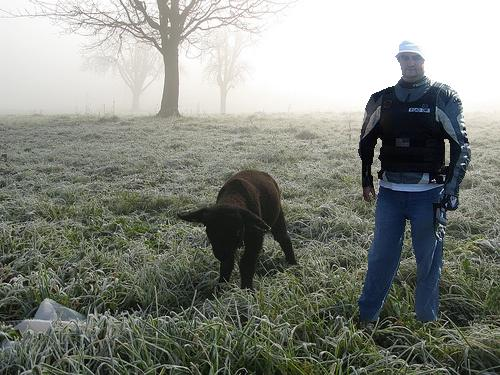tampered: (358, 40, 471, 321)
